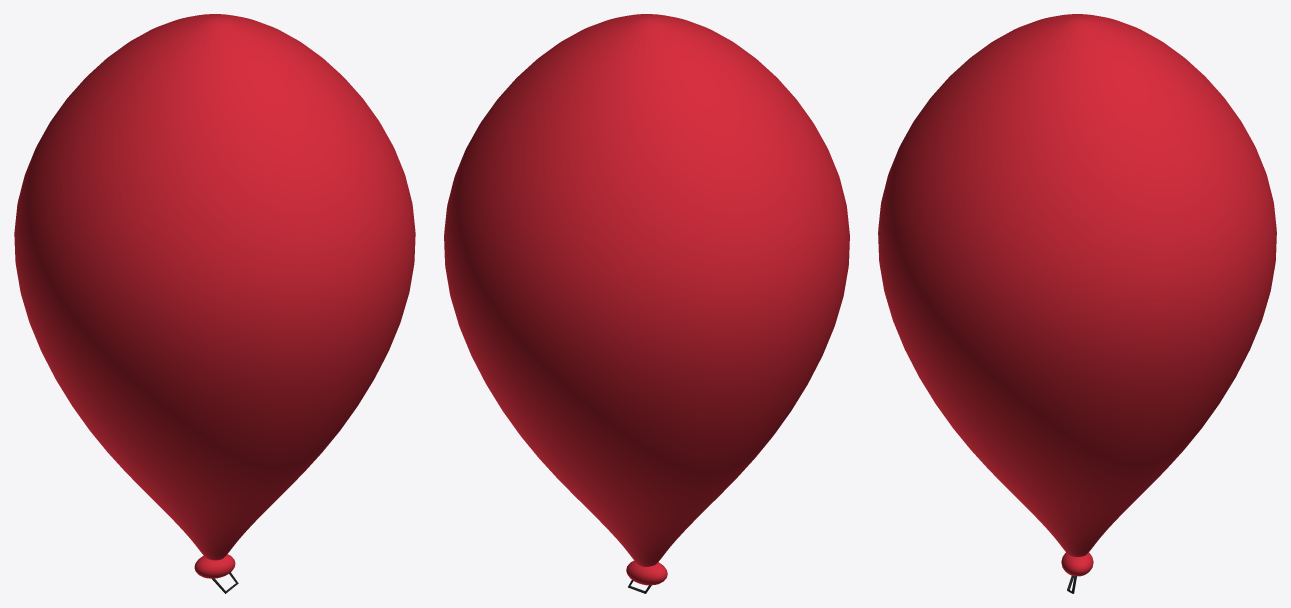
File: helium_balloon.glb
3 renders of one model, left to right at view 1: azimuth 30°, elevation 25°; view 2: azimuth 150°, elevation 25°; view 3: azimuth 270°, elevation 25°, orthographic.
Parts seen in each view (by area): view 1: Latex envelope, Tied knot; view 2: Latex envelope, Tied knot; view 3: Latex envelope, Tied knot.
Part boxes in pixels (x1=…): Latex envelope: x1=14, y1=14, x2=415, y2=560; Tied knot: x1=194, y1=554, x2=235, y2=578; Latex envelope: x1=444, y1=14, x2=849, y2=566; Tied knot: x1=626, y1=560, x2=667, y2=585; Latex envelope: x1=878, y1=14, x2=1276, y2=556; Tied knot: x1=1061, y1=552, x2=1093, y2=576.
Size of the model in its own units: 0.8658 by 1.36 by 0.8658.
